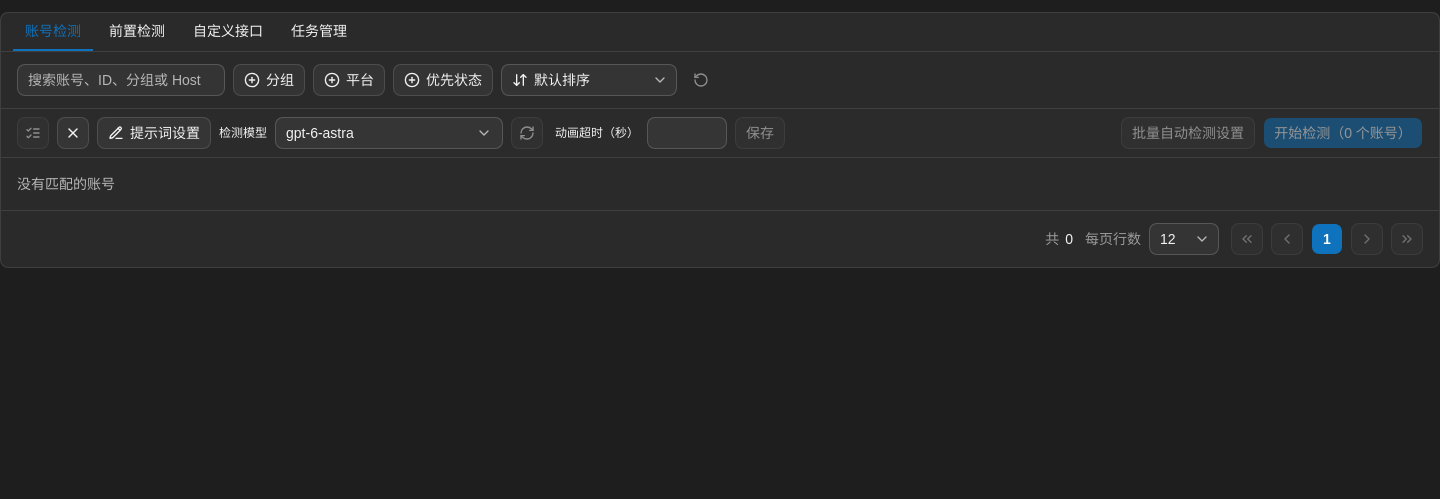
自定义任务为 cancelled 时仍能辨认原接口和请求模型
Click the tab "自定义接口" at (228, 32), box [181, 13, 275, 51]
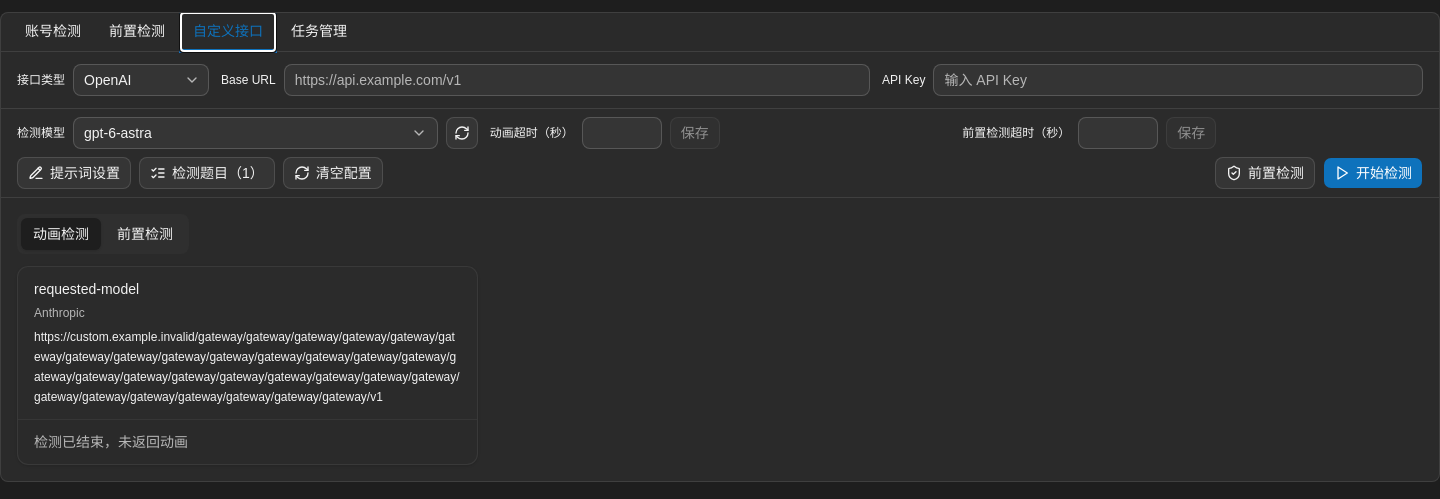
Check: the element named "自定义检测 requested-model" shows "Anthropic", box [34, 306, 85, 320]
Check: the element named "自定义检测 requested-model" shows "requested-model", box [34, 281, 139, 297]
